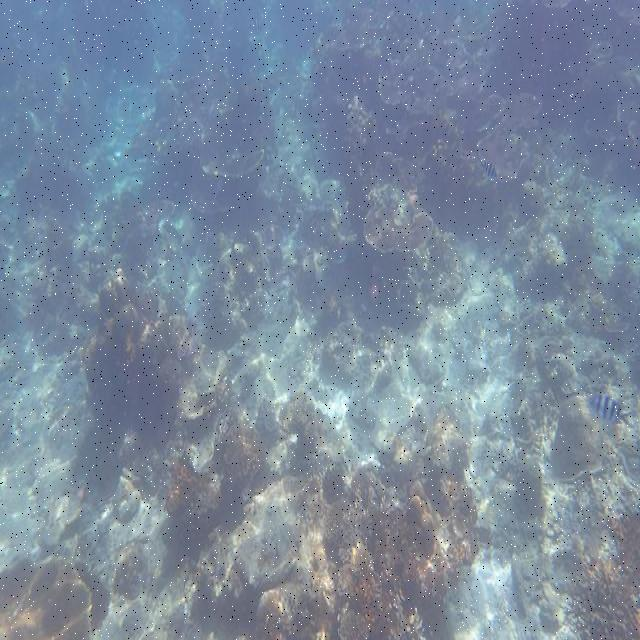fish: (585, 396, 632, 429)
reefs: (161, 327, 475, 636), (82, 284, 264, 421), (365, 181, 466, 318), (0, 554, 110, 639)
